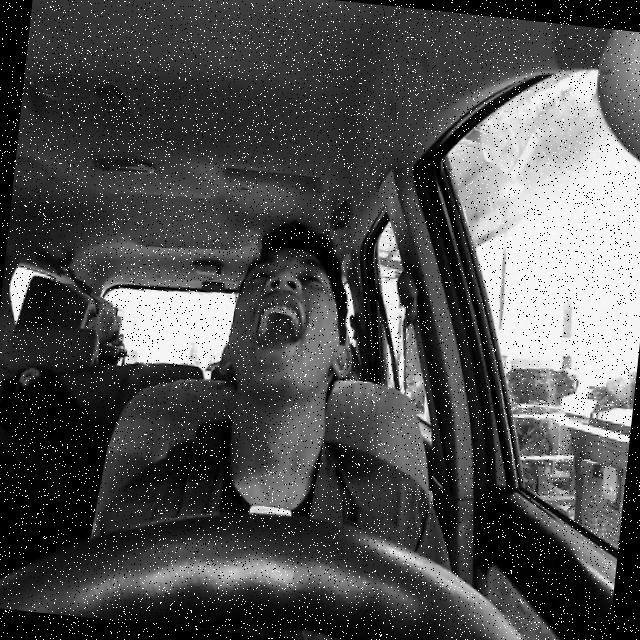yarning: (215, 238, 364, 410)
